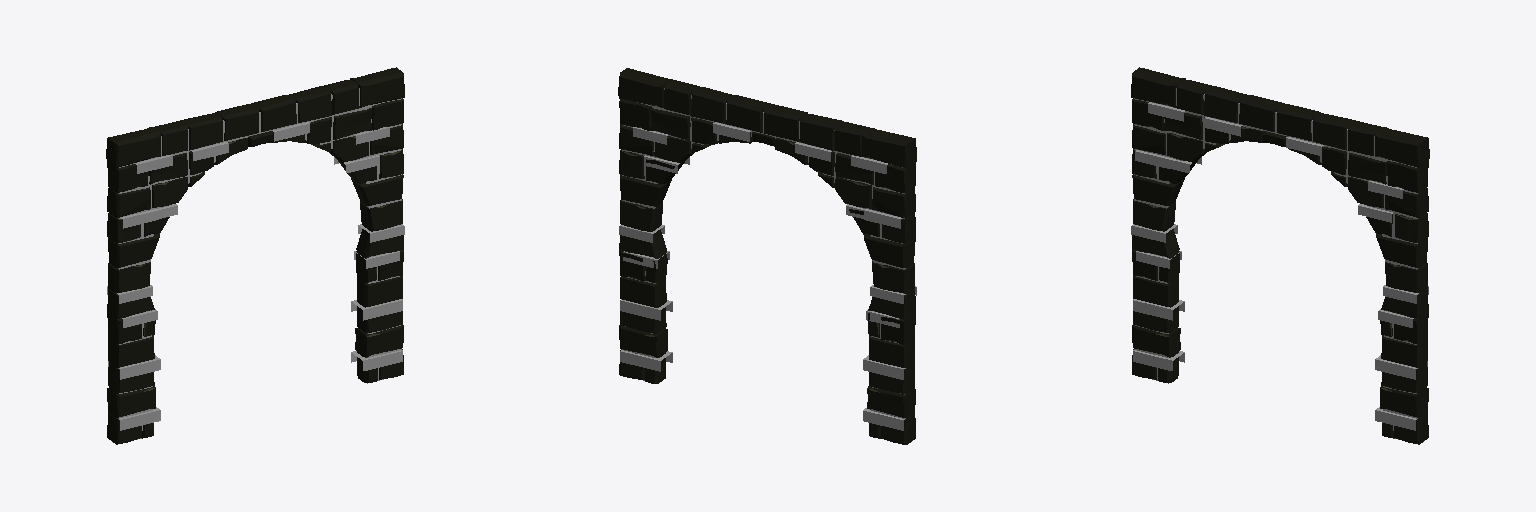
File: Wall_ArchRound_Overgrown.obj
The picture shows the model from 3 angles: view 1: azimuth 30°, elevation 25°; view 2: azimuth 150°, elevation 25°; view 3: azimuth 330°, elevation 25°; orthographic projection.
Parts seen in each view (by area): view 1: Wall_ArchRound_Overgrown_Cube.038; view 2: Wall_ArchRound_Overgrown_Cube.038; view 3: Wall_ArchRound_Overgrown_Cube.038.
Boxes of the visible parts, x1,y1,x2,y2 form: Wall_ArchRound_Overgrown_Cube.038: [106, 67, 404, 444]; Wall_ArchRound_Overgrown_Cube.038: [618, 68, 916, 444]; Wall_ArchRound_Overgrown_Cube.038: [1131, 67, 1429, 444].
Bounding box in the file's own units: 4 × 3.99 × 0.3161.